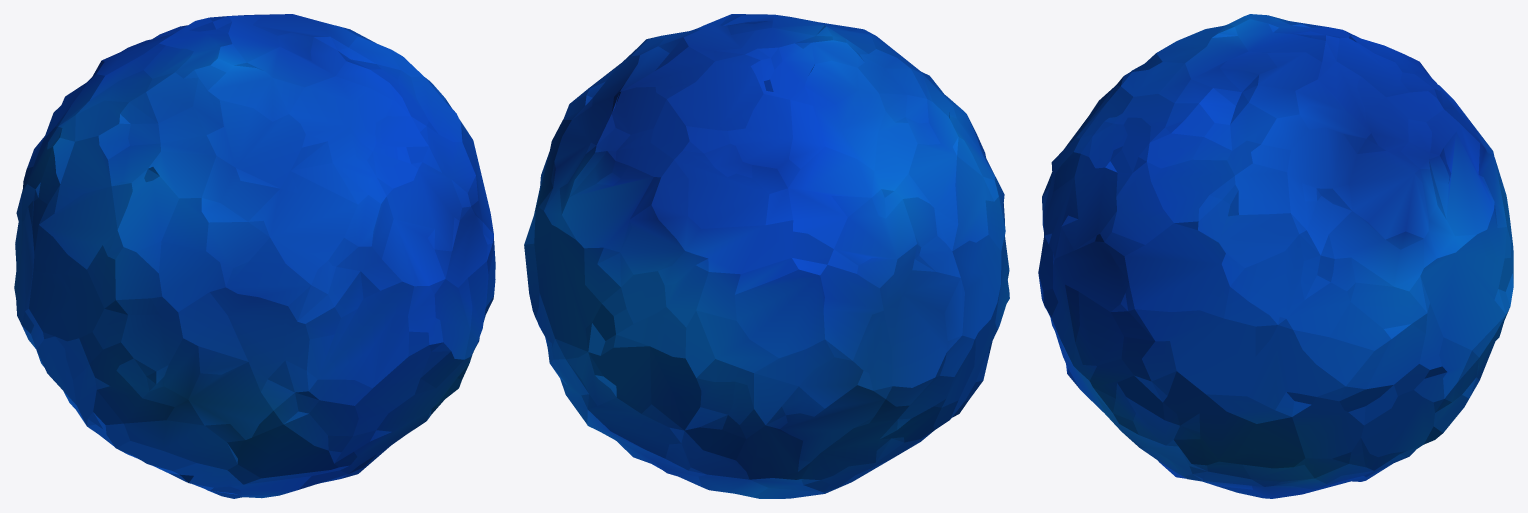
Rendered from Ocean_000.fbx.
The picture shows the model from 3 angles, left to right: view 1: azimuth 30°, elevation 25°; view 2: azimuth 150°, elevation 25°; view 3: azimuth 270°, elevation 25°; orthographic projection.
Parts seen in each view (by area): view 1: Planet.Water; view 2: Planet.Water; view 3: Planet.Water.
Part boxes in pixels (box(x1,y1,x2,y2)): Planet.Water: box(14, 14, 495, 498); Planet.Water: box(524, 14, 1009, 498); Planet.Water: box(1038, 14, 1513, 498).
Size of the model in its own units: 69745 by 70104 by 69206.
